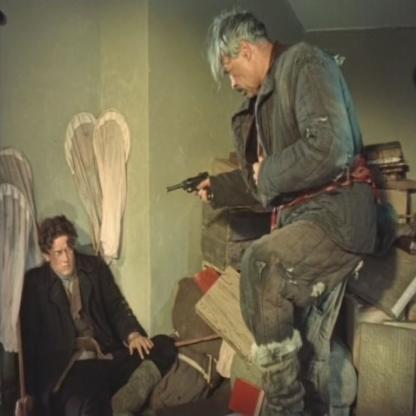gun: (143, 172, 212, 200)
